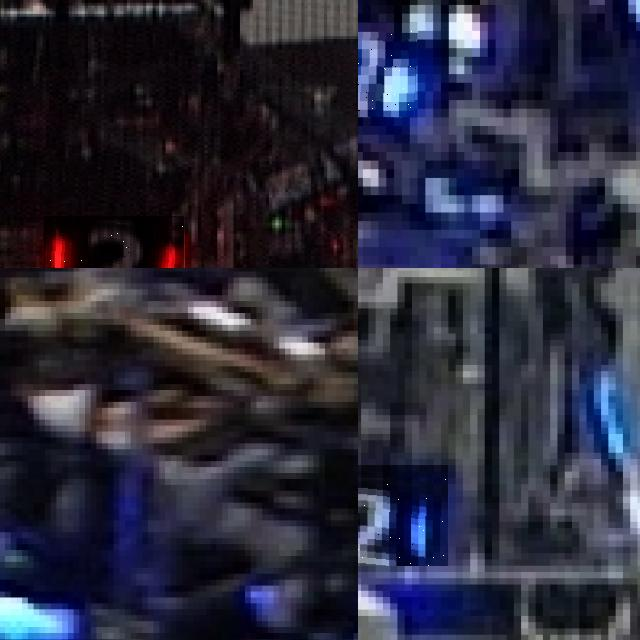B2: (358, 465, 448, 565), (358, 22, 417, 117)
R2: (44, 215, 183, 268)
